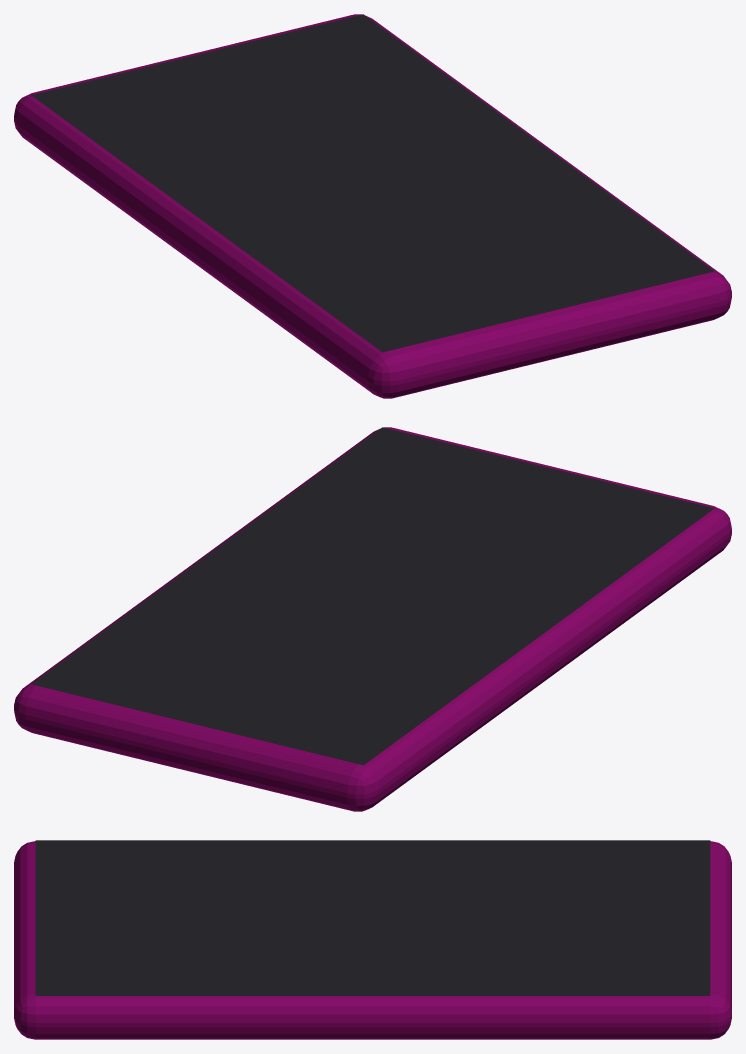
The model's file is oneplus-number-series-model-284-mid-range-2025.glb.
3 renders of one model, top to bottom at view 1: azimuth 30°, elevation 25°; view 2: azimuth 150°, elevation 25°; view 3: azimuth 270°, elevation 25°, orthographic. The views are drawn at different scales.
Visible parts, largest first — view 1: Phone_Screen, Phone_Body; view 2: Phone_Screen, Phone_Body; view 3: Phone_Screen, Phone_Body.
Part boxes in pixels (left/top/right/bottom): Phone_Screen: left=31, top=14, right=714, bottom=352; Phone_Body: left=14, top=14, right=731, bottom=398; Phone_Screen: left=31, top=427, right=714, bottom=765; Phone_Body: left=14, top=427, right=731, bottom=811; Phone_Screen: left=35, top=840, right=710, bottom=995; Phone_Body: left=14, top=841, right=731, bottom=1039.
Bounding box in the file's own units: 0.0791 × 0.0096 × 0.1417.
